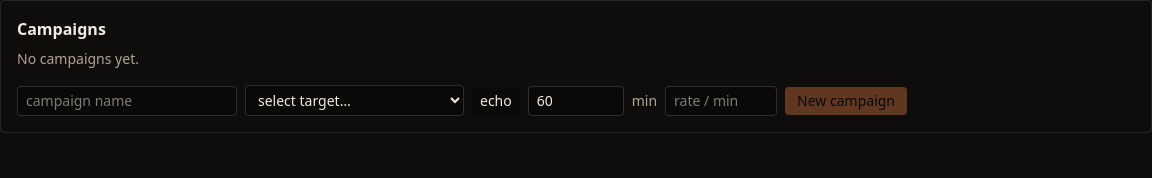
Test case: Campaigns panel (spec 018) › shows the API's refusal
Expected: the list item "No campaigns yet." is shown, [17, 49, 139, 68]
Type "too often" into the field labelled "campaign name". click: (127, 100)
box: [17, 86, 237, 116]
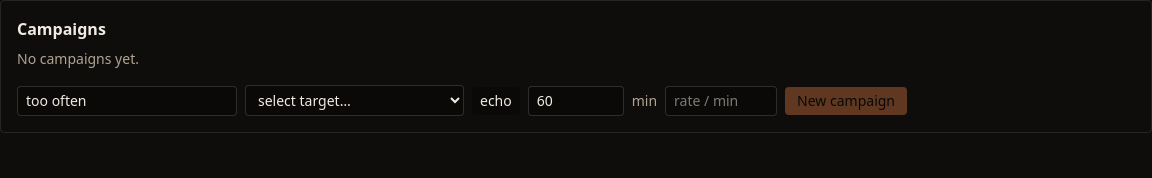
Select "llm_endpoint: gw.acme.test" in the dropdown named "campaign target". click: (354, 100)
box: [245, 85, 464, 116]
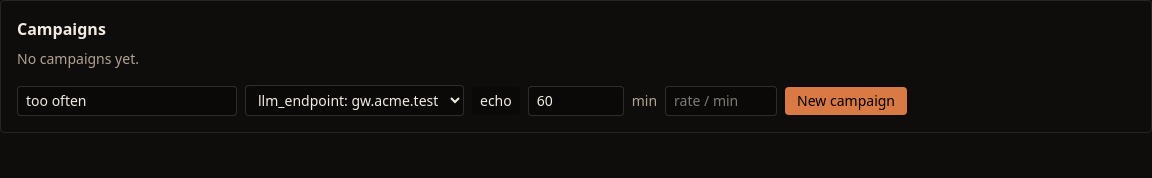
Replace the text in the field named "interval minutes" with "5". click: (576, 100)
box: [528, 86, 624, 116]
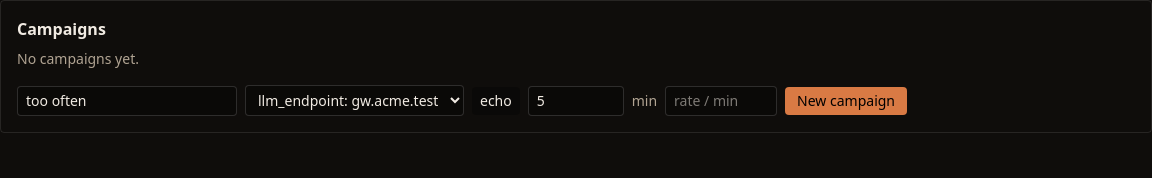
Click the button "New campaign". click: (846, 100)
box: [785, 86, 907, 114]
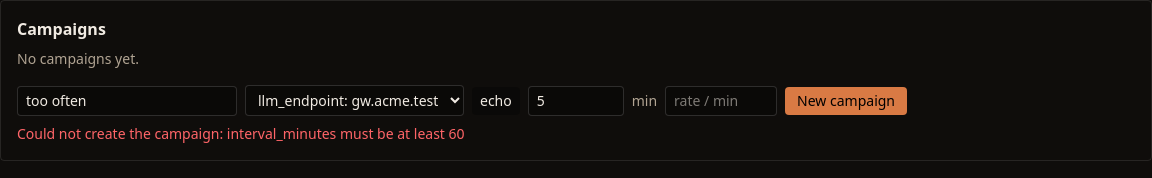
Expected: the message shows "interval_minutes must be at least 60", [227, 124, 465, 143]
